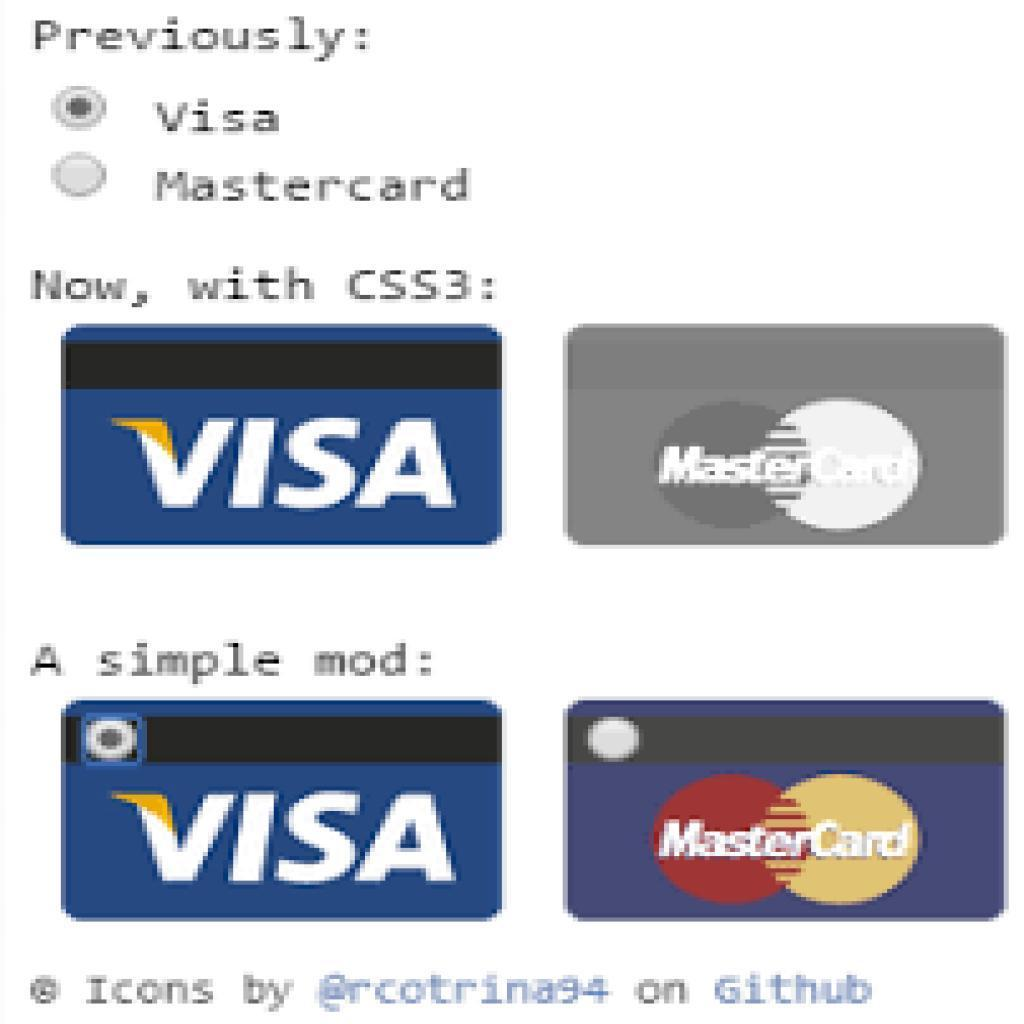label: (154, 162, 479, 210), (154, 92, 285, 141)
radio: (47, 151, 110, 201), (49, 86, 110, 132), (84, 717, 140, 765), (588, 718, 642, 763)
